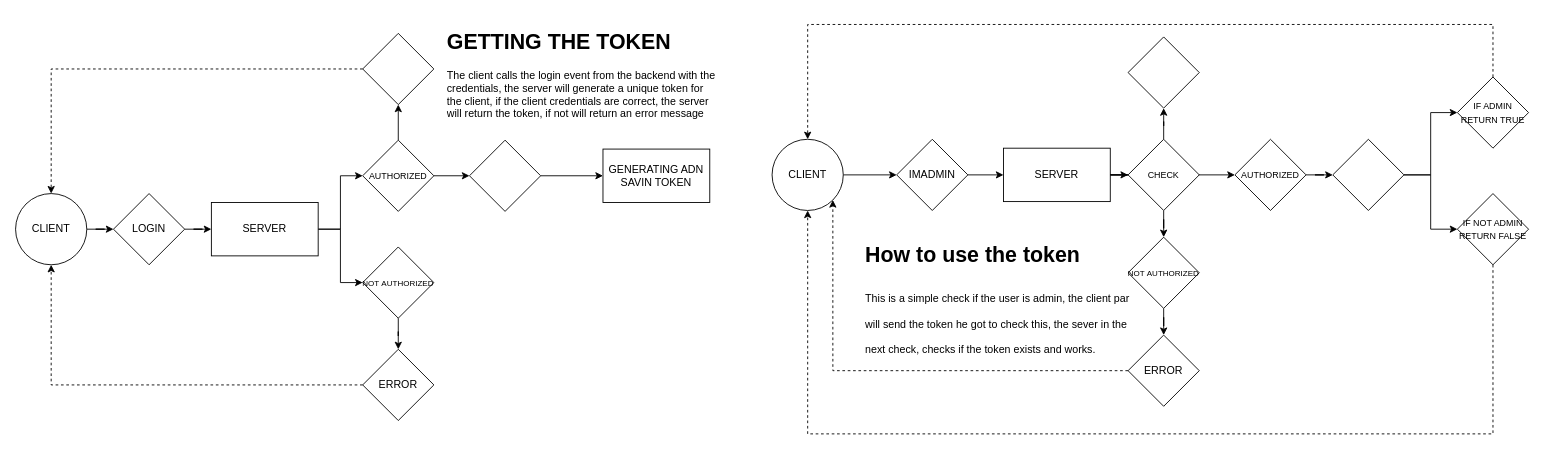
Some shapes in this 1544 by 457 pixel diagram are drawn without their labels. The shapes that lost their labels are listed below. From the top down, each one's centre as x and y in pixels, then its label:
pixel 398 68: RETURN TOKEN
pixel 1163 72: BACKEND-MEMORY
pixel 505 175: LOAD IN SERVER MEMORY
pixel 1368 174: CHECK-IF-ADMIN
